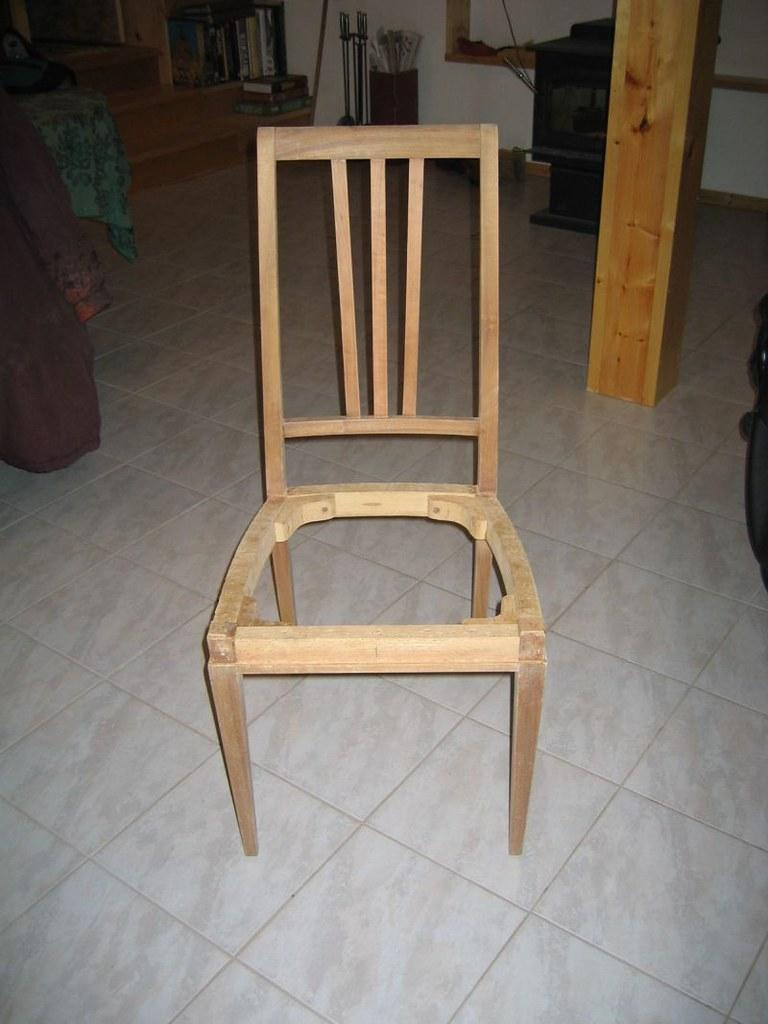chair: (203, 122, 549, 859)
